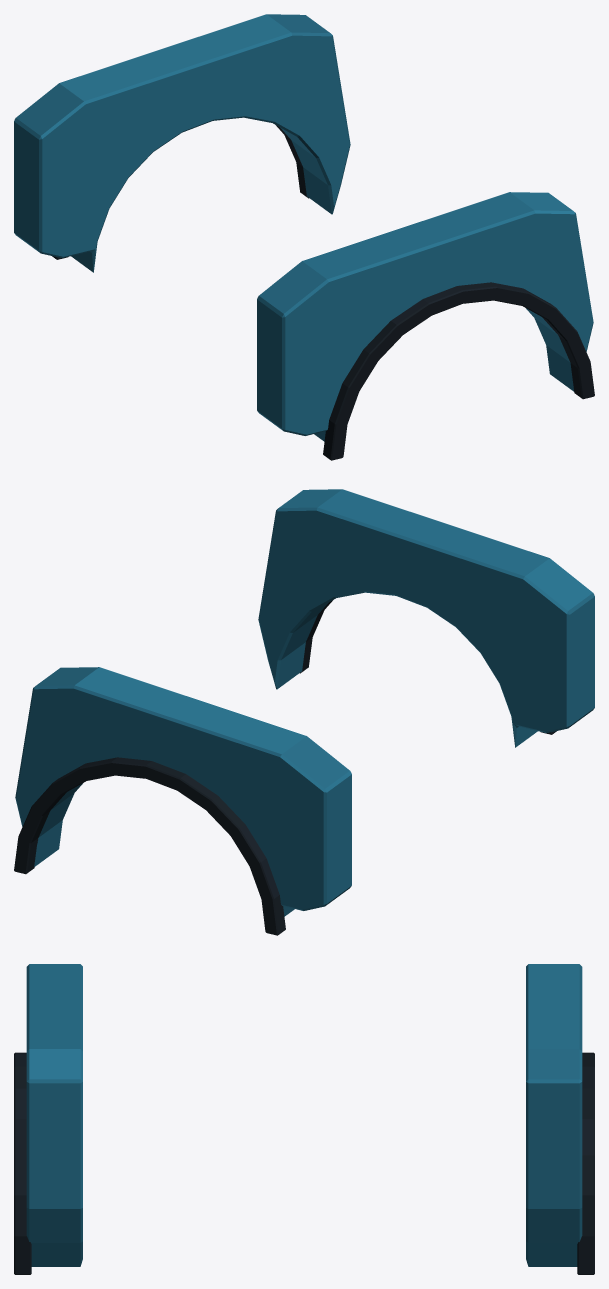
The model's file is QC_FrontFenders.fbx.
3 renders of one model, top to bottom at view 1: azimuth 30°, elevation 25°; view 2: azimuth 150°, elevation 25°; view 3: azimuth 270°, elevation 25°, orthographic. The views are drawn at different scales.
Visible parts, largest first — view 1: QC_FrontFenders; view 2: QC_FrontFenders; view 3: QC_FrontFenders.
Part boxes in pixels (box(x1,y1,x2,y2)): QC_FrontFenders: box(14, 14, 594, 460); QC_FrontFenders: box(14, 489, 594, 935); QC_FrontFenders: box(14, 964, 594, 1274).
Bounding box in the file's own units: 1.21 × 0.72 × 1.9.
Materials: 2 (2 with a texture image).
